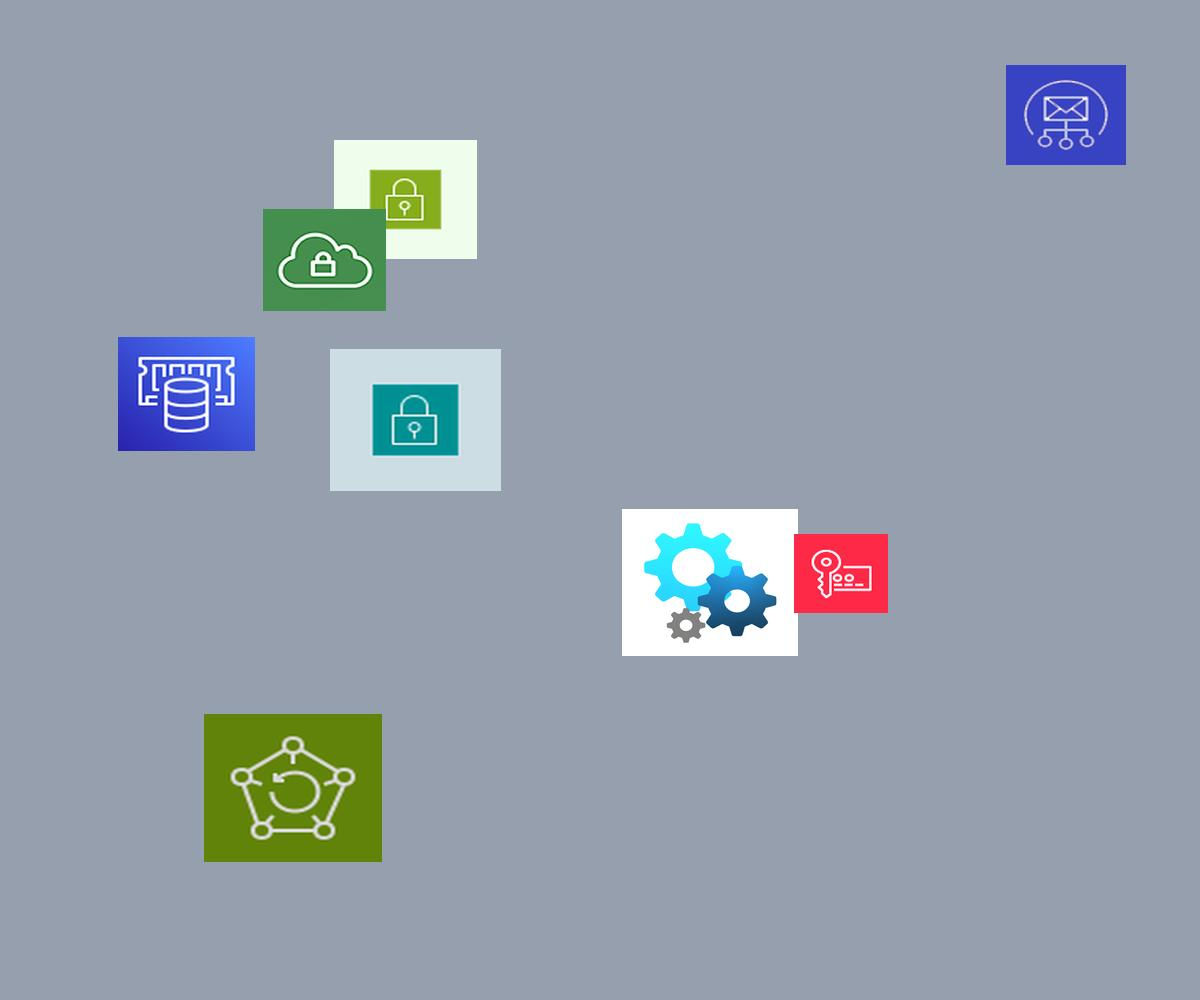AWS-Backup: (204, 714, 382, 862)
AWS-ElastiCache: (118, 337, 255, 451)
AWS-Key-Management-Service: (794, 534, 888, 613)
AWS-Private-subnet: (330, 349, 501, 491)
AWS-Private_vpc: (263, 209, 386, 311)
AWS-Public-subnet: (334, 140, 477, 259)
AWS-Simple-Email-Service: (1006, 65, 1126, 165)
Azure_api: (622, 509, 798, 656)
